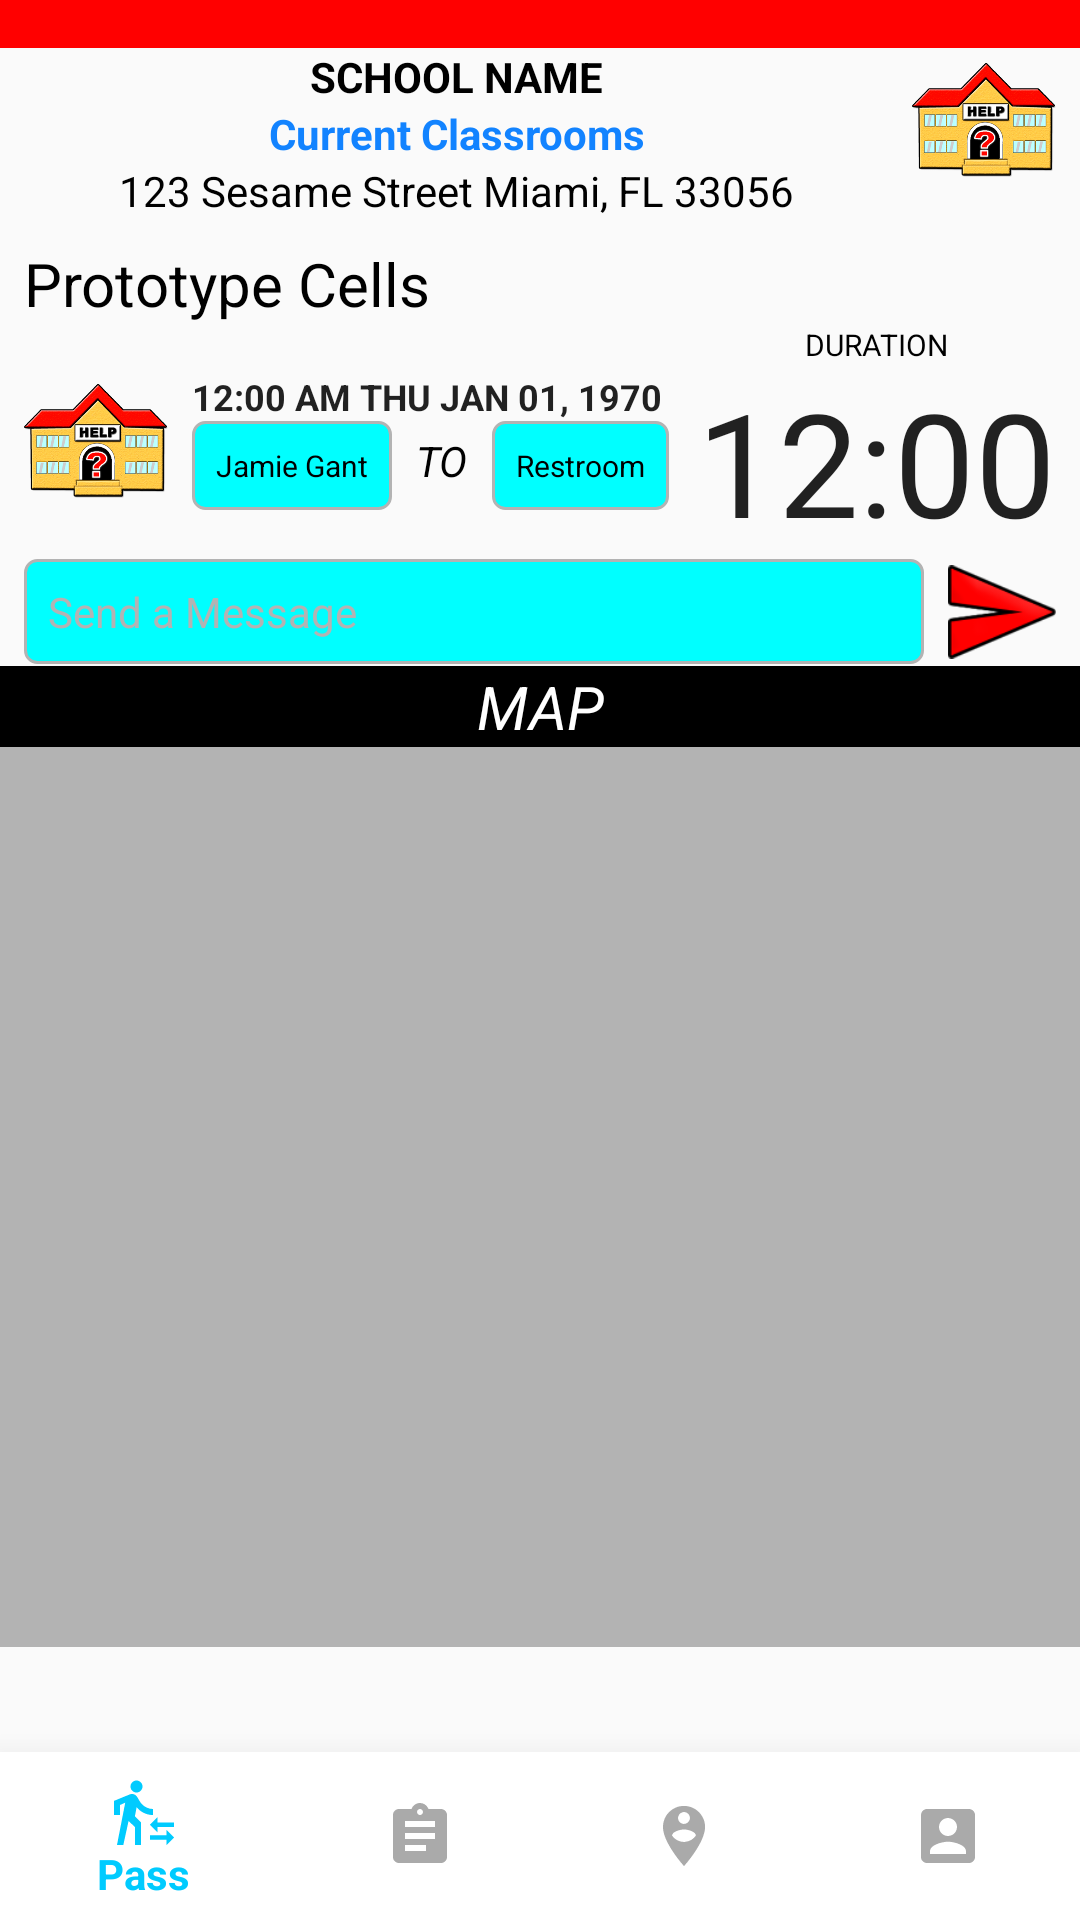

Where icons sit on this 1080px x 1920px app screen, as (x1, y1, x2, y2):
arrow: (948, 565, 1056, 659)
